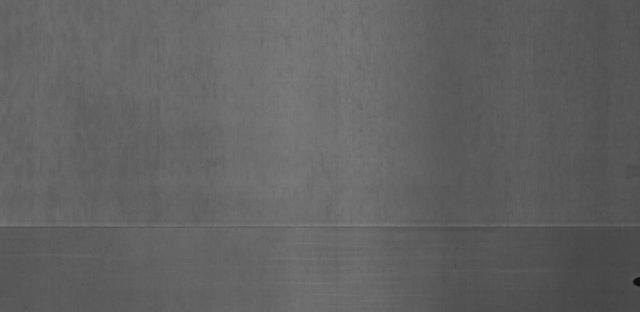punching_hole: (630, 274, 640, 287)
welding_line: (2, 222, 640, 238)
